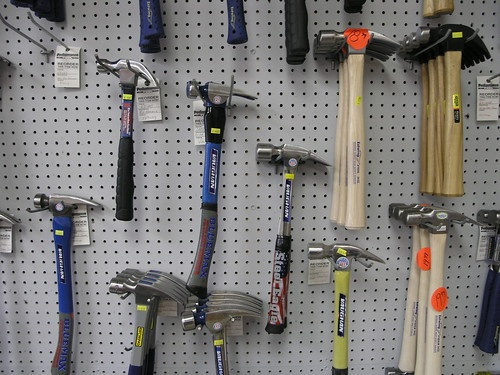hammer: (185, 73, 256, 290), (316, 28, 389, 229), (392, 203, 475, 375), (254, 141, 325, 334), (29, 192, 101, 375), (409, 23, 474, 194), (95, 55, 153, 223), (307, 239, 371, 375), (109, 267, 183, 375), (179, 311, 266, 375)
